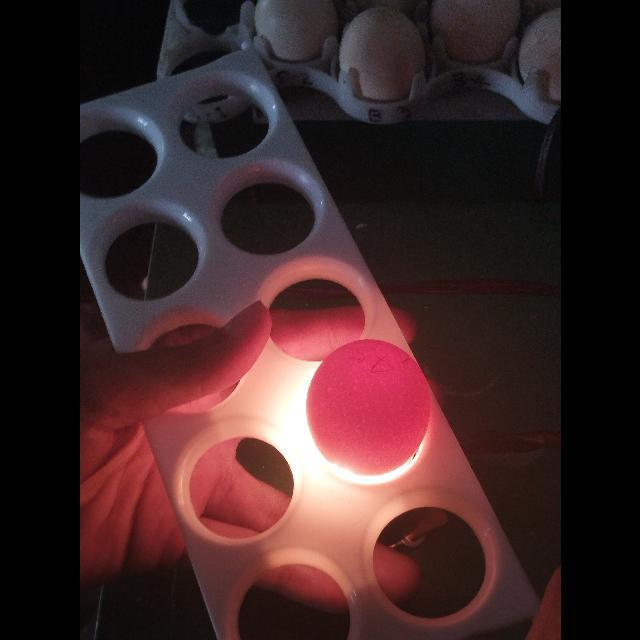Infertile: (304, 337, 434, 481)
